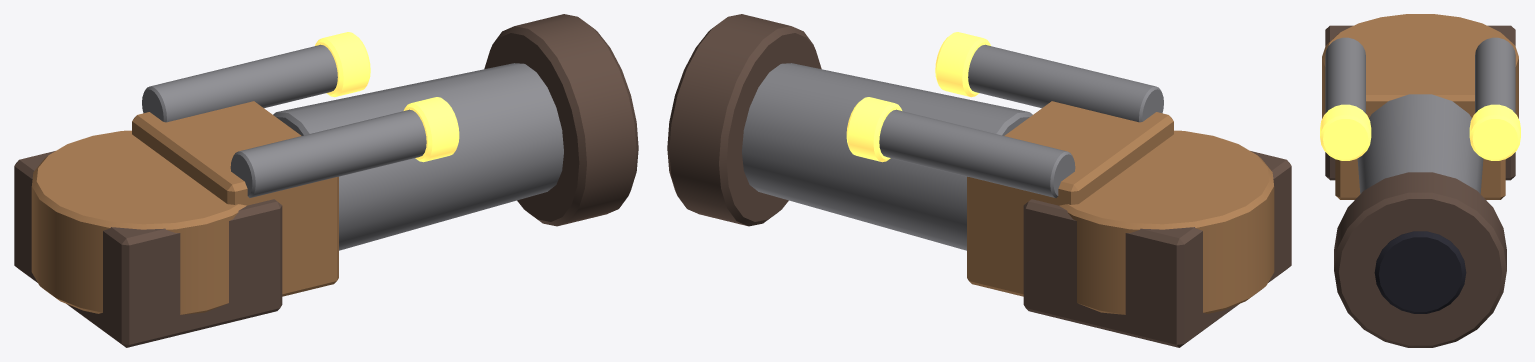
The model's file is cannon_turret_l1.glb.
The picture shows the model from 3 angles, left to right: view 1: azimuth 30°, elevation 25°; view 2: azimuth 150°, elevation 25°; view 3: azimuth 270°, elevation 25°; orthographic projection. The views are drawn at different scales.
Visible parts, largest first — view 1: Cone, Cylinder, Cube, Cylinder.001, Cube.001, Cylinder.003, Cylinder.005, Cylinder.004, Cylinder.006; view 2: Cone, Cylinder, Cube, Cylinder.001, Cube.001, Cylinder.005, Cylinder.003, Cylinder.004, Cylinder.006; view 3: Cylinder.001, Cone, Cube.001, Cylinder.002, Cylinder, Cylinder.003, Cylinder.005, Cylinder.004, Cylinder.006, Cube.
Boxes of the visible parts, x1,y1,x2,y2 form: Cone: (273, 63, 563, 250); Cylinder: (31, 130, 246, 314); Cube: (14, 151, 282, 347); Cylinder.001: (484, 14, 638, 226); Cube.001: (132, 101, 338, 296); Cylinder.003: (230, 109, 426, 197); Cylinder.005: (142, 44, 337, 122); Cylinder.004: (403, 97, 459, 162); Cylinder.006: (315, 32, 370, 97); Cone: (742, 63, 1032, 250); Cylinder: (1059, 130, 1274, 314); Cube: (1023, 151, 1291, 347); Cylinder.001: (667, 14, 821, 226); Cube.001: (967, 101, 1173, 296); Cylinder.005: (879, 109, 1075, 197); Cylinder.003: (968, 44, 1163, 122); Cylinder.004: (935, 32, 990, 97); Cylinder.006: (846, 97, 902, 162); Cylinder.001: (1334, 172, 1506, 347); Cone: (1357, 94, 1483, 193); Cube.001: (1335, 53, 1505, 199); Cylinder.002: (1374, 231, 1466, 313); Cylinder: (1322, 14, 1518, 118); Cylinder.003: (1325, 37, 1365, 113); Cylinder.005: (1475, 37, 1515, 113); Cylinder.004: (1320, 104, 1371, 160); Cylinder.006: (1469, 104, 1520, 160); Cube: (1325, 25, 1515, 180).
Size of the model in its own units: 1.57 by 0.506 by 0.59.
